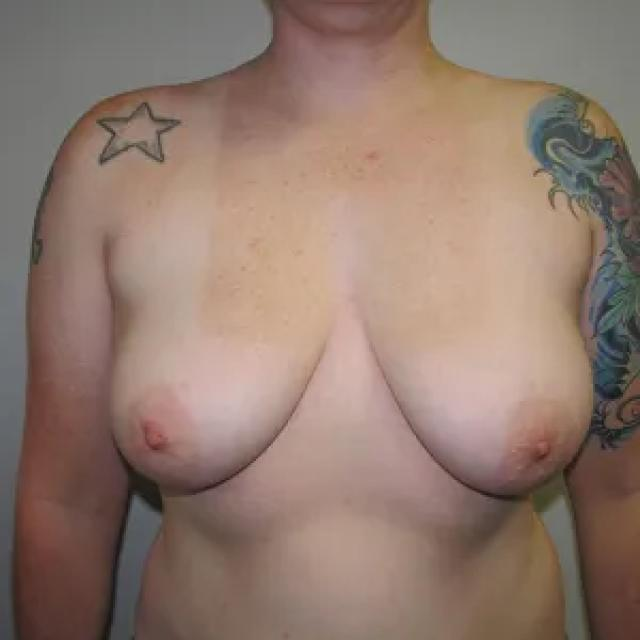Seno ileso: (356, 248, 604, 518), (102, 246, 342, 517)
